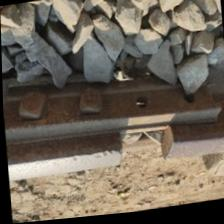person: (84, 104, 194, 192)
